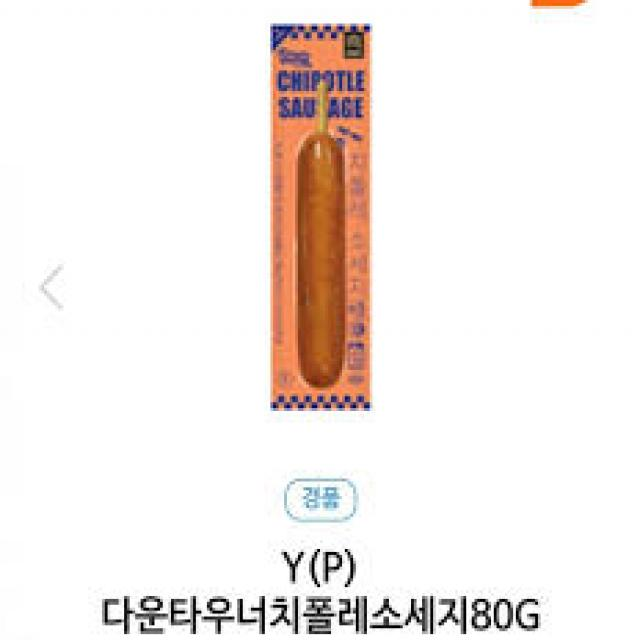Sausage/Hot Dog Link: (281, 124, 356, 388)
